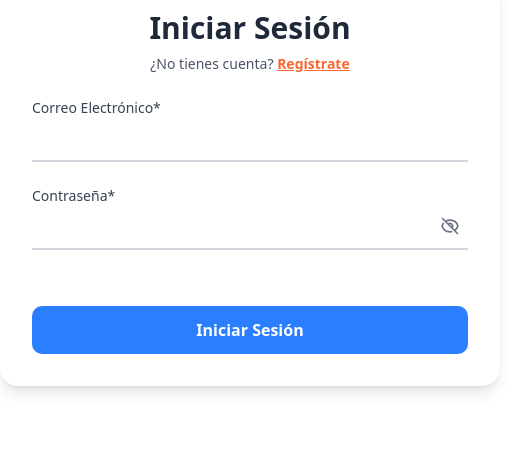
Test case: LoginForm › Login fallido › debe mostrar error genérico si no hay mensaje específico
This screenshot has width=517, height=474.
Type "test@example.com" into the field at (250, 141), box left=32, top=120, right=468, bottom=162
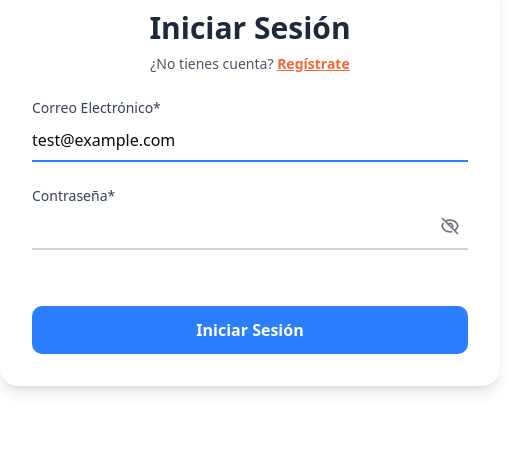
Type "Test1234" into the password field labelled "Contraseña*" at (250, 229), box left=32, top=208, right=468, bottom=250
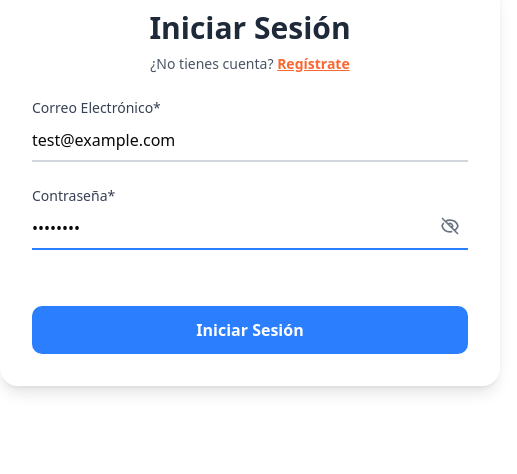
Click the button "Iniciar Sesión" at (250, 330), box left=32, top=306, right=468, bottom=354
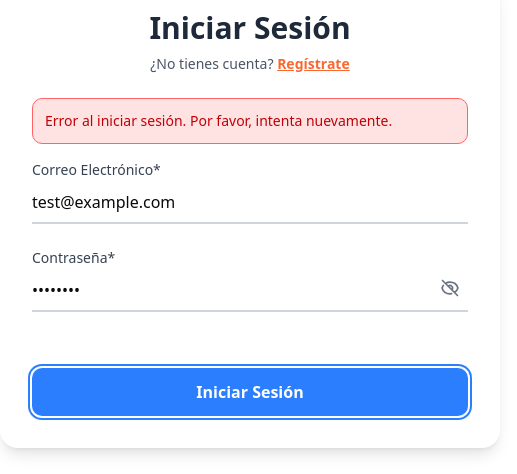
Expected: the text "Error al iniciar sesión. Por favor, intenta nuevamente." is shown, left=32, top=98, right=468, bottom=144
